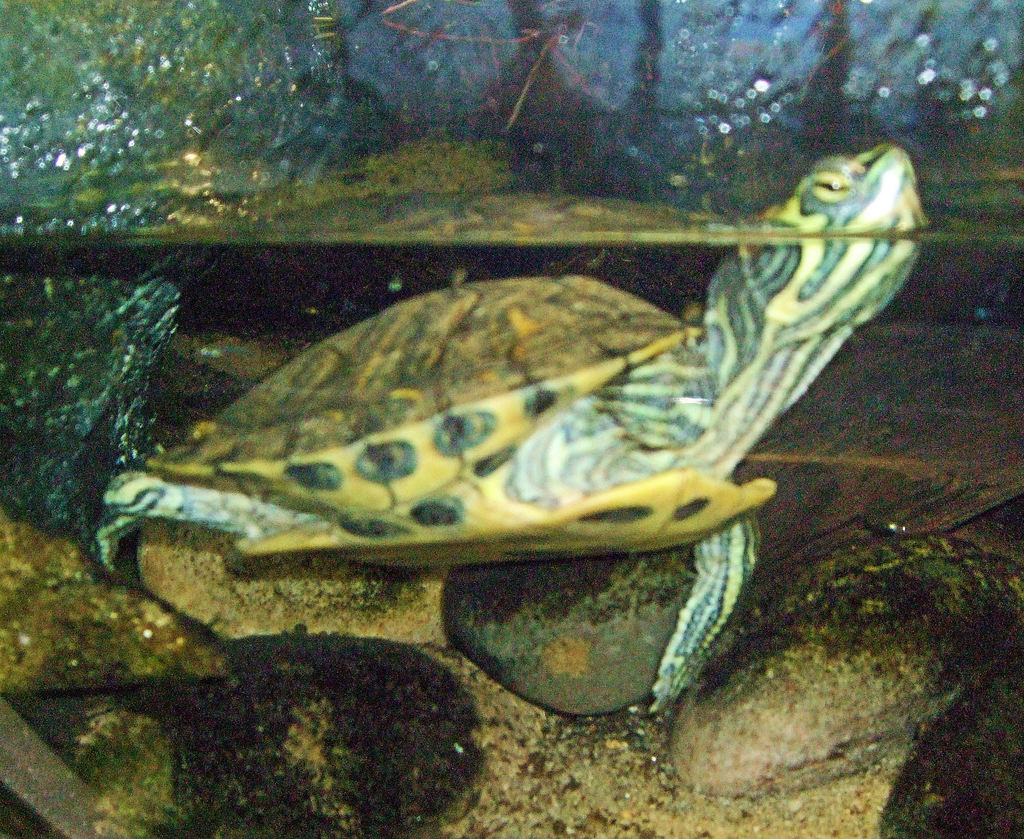Sea turtles: (55, 136, 942, 725)
